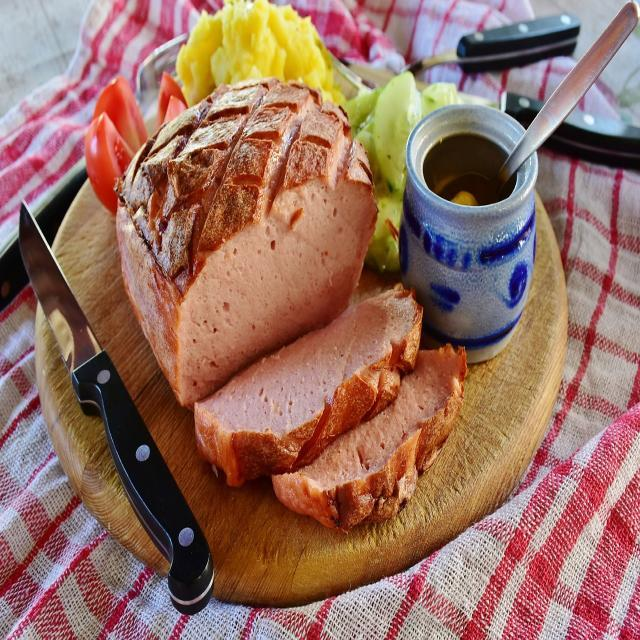Knife: (19, 204, 214, 613)
